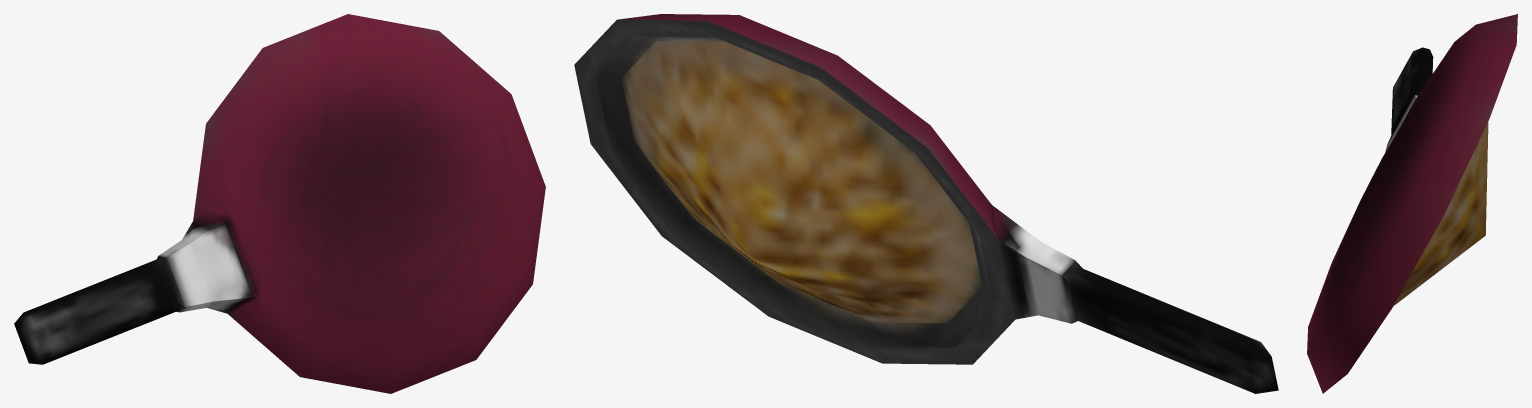
Rendered from C_FryingPanFood.fbx.
The picture shows the model from 3 angles, left to right: view 1: azimuth 30°, elevation 25°; view 2: azimuth 150°, elevation 25°; view 3: azimuth 270°, elevation 25°; orthographic projection. The views are drawn at different scales.
Visible parts, largest first — view 1: StirFry; view 2: StirFry; view 3: StirFry.
Part boxes in pixels (x1,y1,x2,y2): StirFry: [14, 14, 545, 393]; StirFry: [574, 14, 1278, 393]; StirFry: [1307, 14, 1517, 393].
Bounding box in the file's own units: 68.69 × 38.82 × 21.71.
